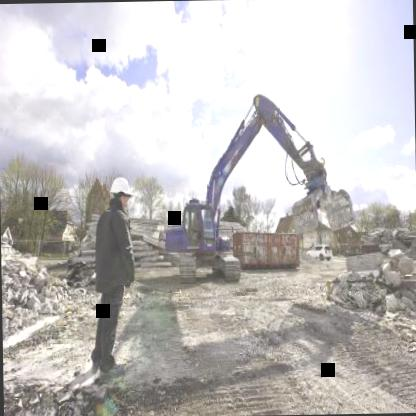helmet: (110, 174, 133, 210)
